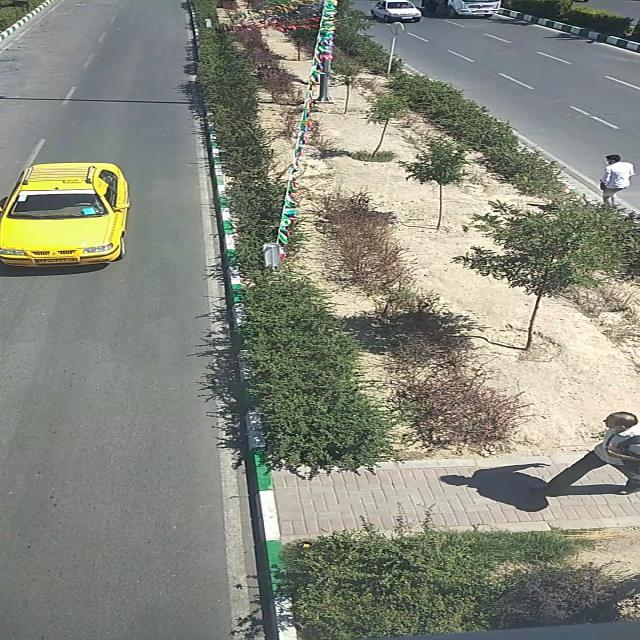car: (0, 162, 132, 264), (366, 0, 420, 20)
truck: (426, 1, 503, 17)
